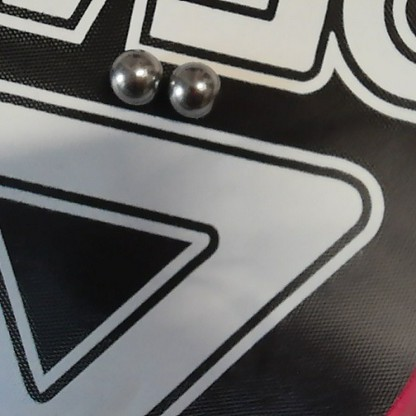ironball: (169, 61, 219, 118), (109, 49, 162, 102)
